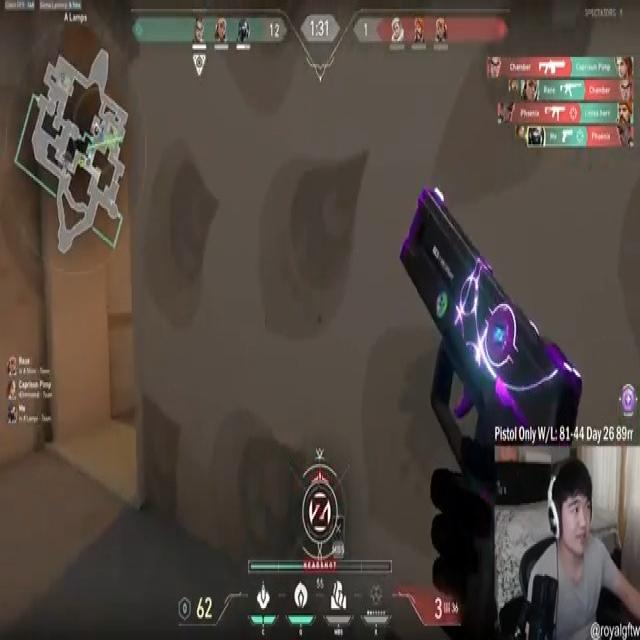gun: (399, 180, 579, 621)
